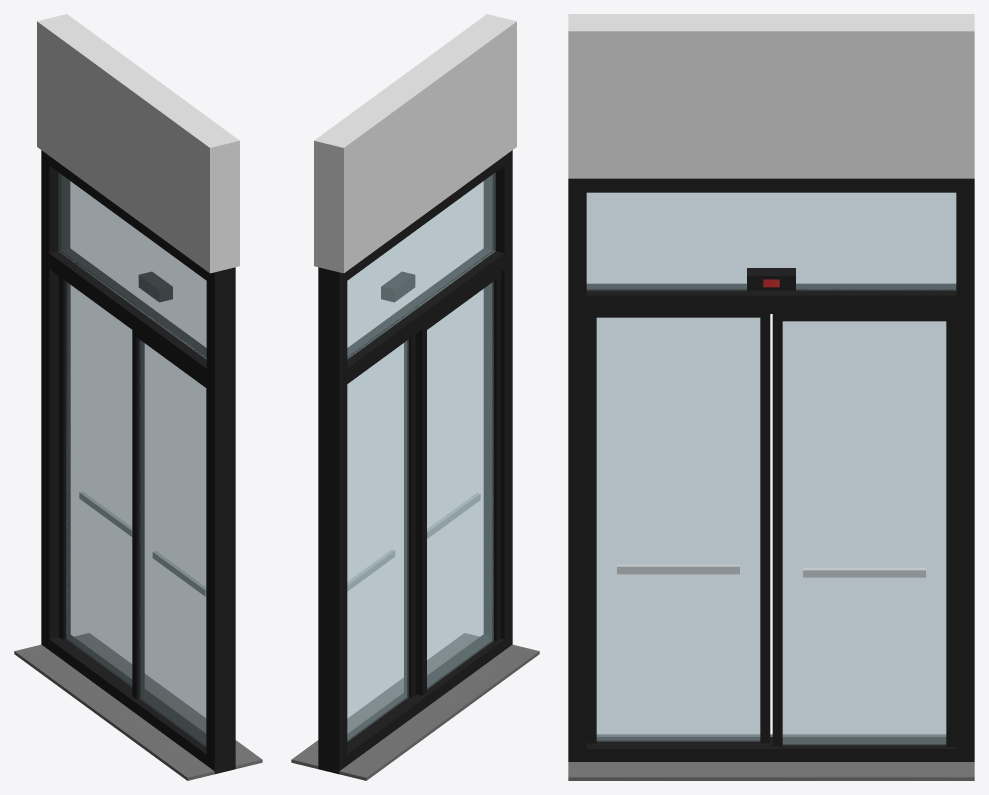
File: SM_Build_Eingang_Schiebetuer.fbx
3 renders of one model, left to right at view 1: azimuth 30°, elevation 25°; view 2: azimuth 150°, elevation 25°; view 3: azimuth 270°, elevation 25°, orthographic. The views are drawn at different scales.
Visible parts, largest first — view 1: Eingang Schiebetür; view 2: Eingang Schiebetür; view 3: Eingang Schiebetür.
Part boxes in pixels (<box>): Eingang Schiebetür: <box>14,14,262,780</box>; Eingang Schiebetür: <box>291,14,539,780</box>; Eingang Schiebetür: <box>568,14,974,780</box>.
Bounding box in the file's own units: 0.5 × 4 × 2.
